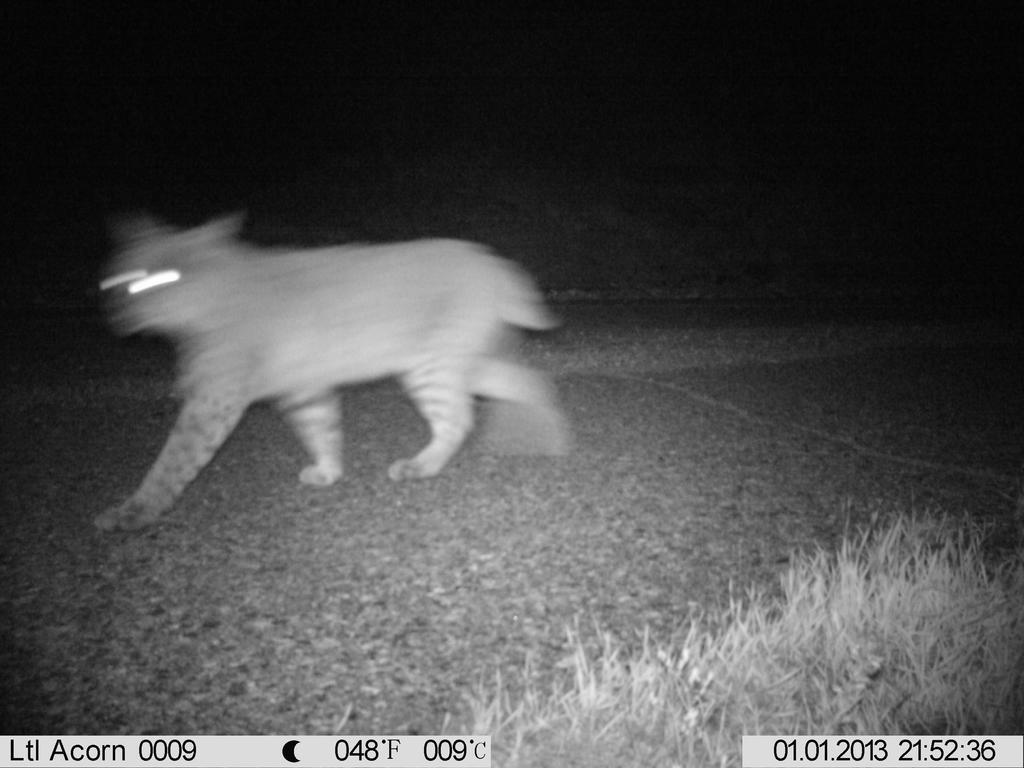bobcat: (73, 196, 578, 548)
